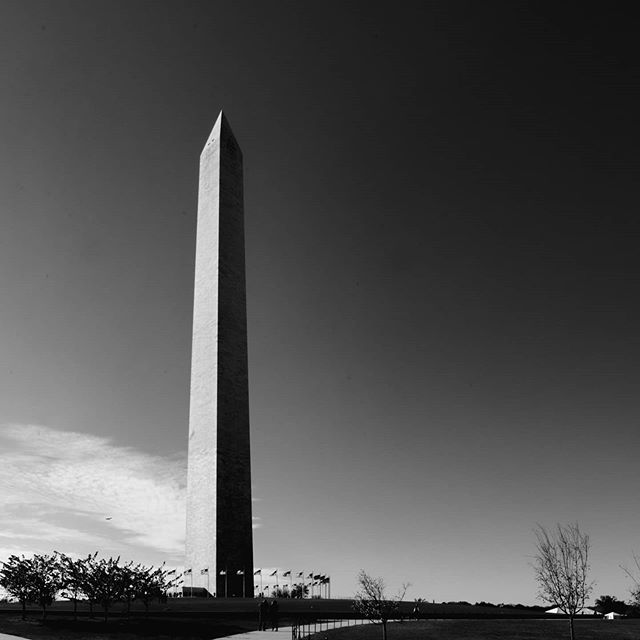building: (178, 107, 265, 588)
sky: (1, 1, 636, 585)
